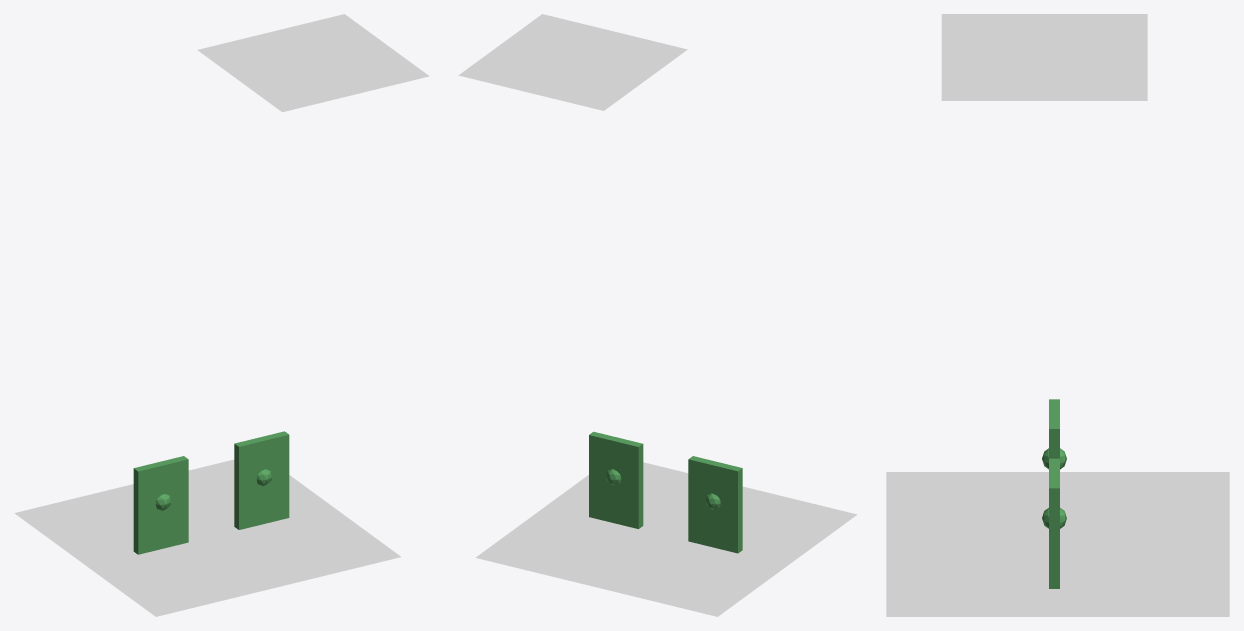
Rendered from wall.fbx.
The picture shows the model from 3 angles, left to right: view 1: azimuth 30°, elevation 25°; view 2: azimuth 150°, elevation 25°; view 3: azimuth 270°, elevation 25°; orthographic projection. The views are drawn at different scales.
Parts seen in each view (by area): view 1: Plane, Plane.001, Cube, Cube.001; view 2: Plane, Plane.001, Cube, Cube.001; view 3: Plane, Plane.001, Cube.001, Cube.
Boxes of the visible parts, x1,y1,x2,y2 form: Plane: (14, 459, 400, 616); Plane.001: (197, 14, 429, 112); Cube: (133, 456, 188, 554); Cube.001: (234, 431, 289, 529); Plane: (475, 462, 857, 616); Plane.001: (458, 14, 687, 110); Cube: (688, 456, 742, 553); Cube.001: (589, 431, 643, 528); Plane: (886, 472, 1229, 616); Plane.001: (941, 14, 1147, 100); Cube.001: (1042, 458, 1066, 588); Cube: (1042, 399, 1066, 469).
Size of the model in its own units: 412 by 600 by 342.
